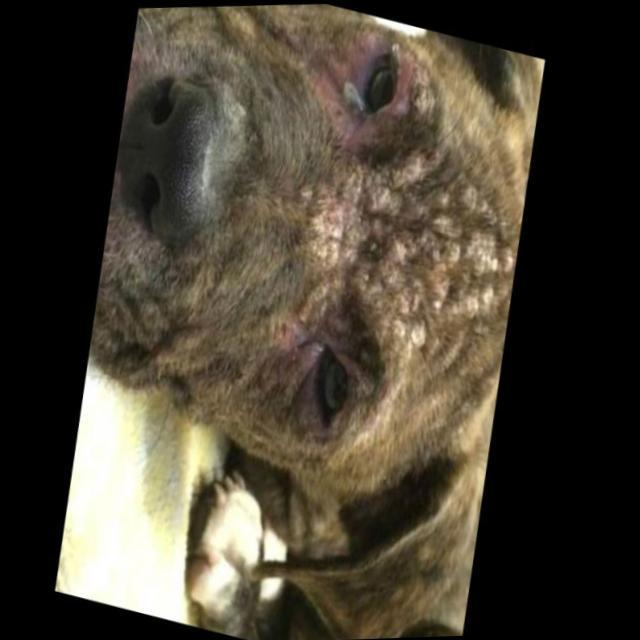allergic dermatitis: (287, 164, 511, 332)
